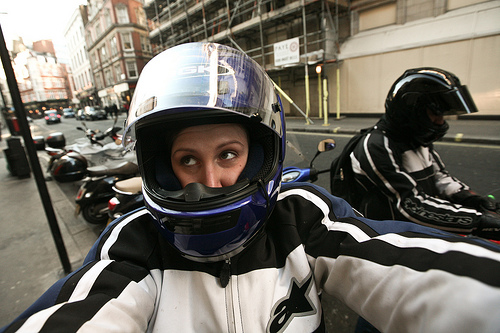helmet: (135, 56, 295, 240), (382, 68, 476, 147)
